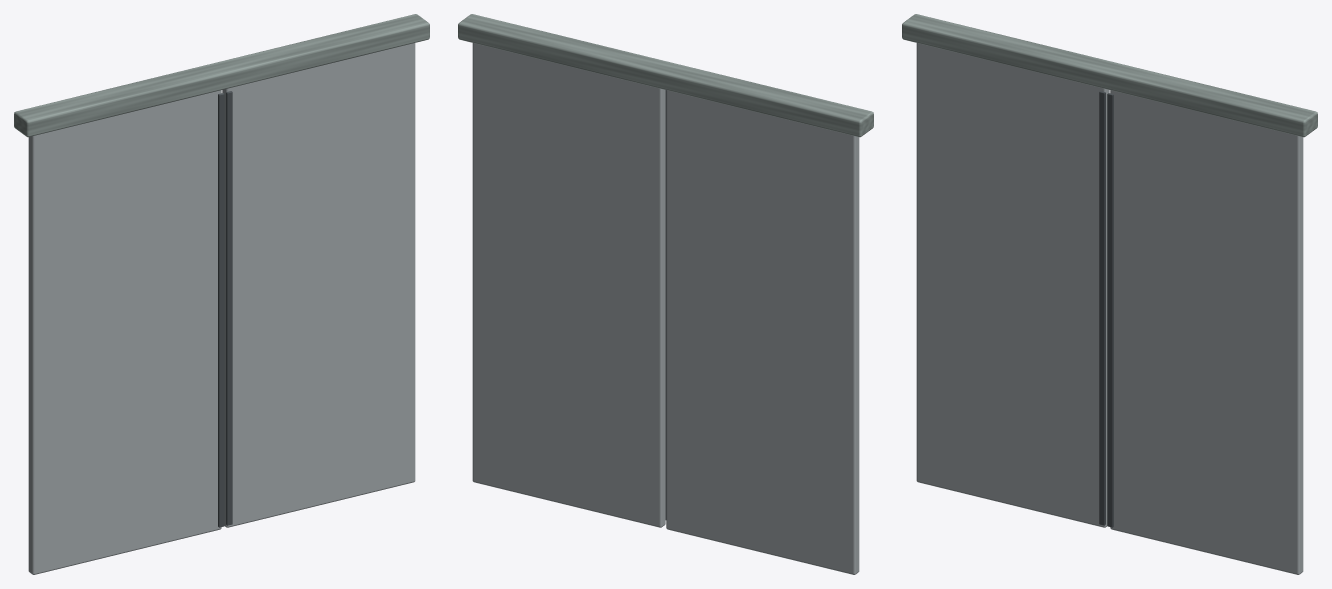
Rendered from liminal-spaces-kit-elevator-doors-b1f54075__25321.glb.
3 renders of one model, left to right at view 1: azimuth 30°, elevation 25°; view 2: azimuth 150°, elevation 25°; view 3: azimuth 330°, elevation 25°, orthographic.
Visible parts, largest first — view 1: door-left (×2), door-right (×2), elevator-doors; view 2: door-right (×2), door-left, elevator-doors; view 3: door-right (×2), door-left (×2), elevator-doors.
Boxes of the visible parts, x1,y1,x2,y2 form: door-left (×2): [28, 90, 224, 574]; door-right (×2): [222, 43, 415, 527]; elevator-doors: [14, 14, 429, 137]; door-right (×2): [472, 43, 666, 527]; door-left: [666, 90, 859, 574]; elevator-doors: [458, 14, 873, 137]; door-right (×2): [1107, 90, 1303, 574]; door-left (×2): [916, 43, 1109, 527]; elevator-doors: [902, 14, 1317, 137].
Bounding box in the file's own units: 2 × 2.18 × 0.1199.
Materials: 3 (1 with a texture image).
